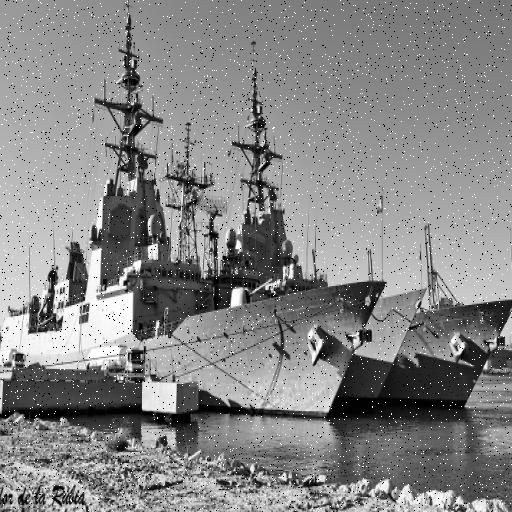Fragata: (1, 1, 390, 430)
